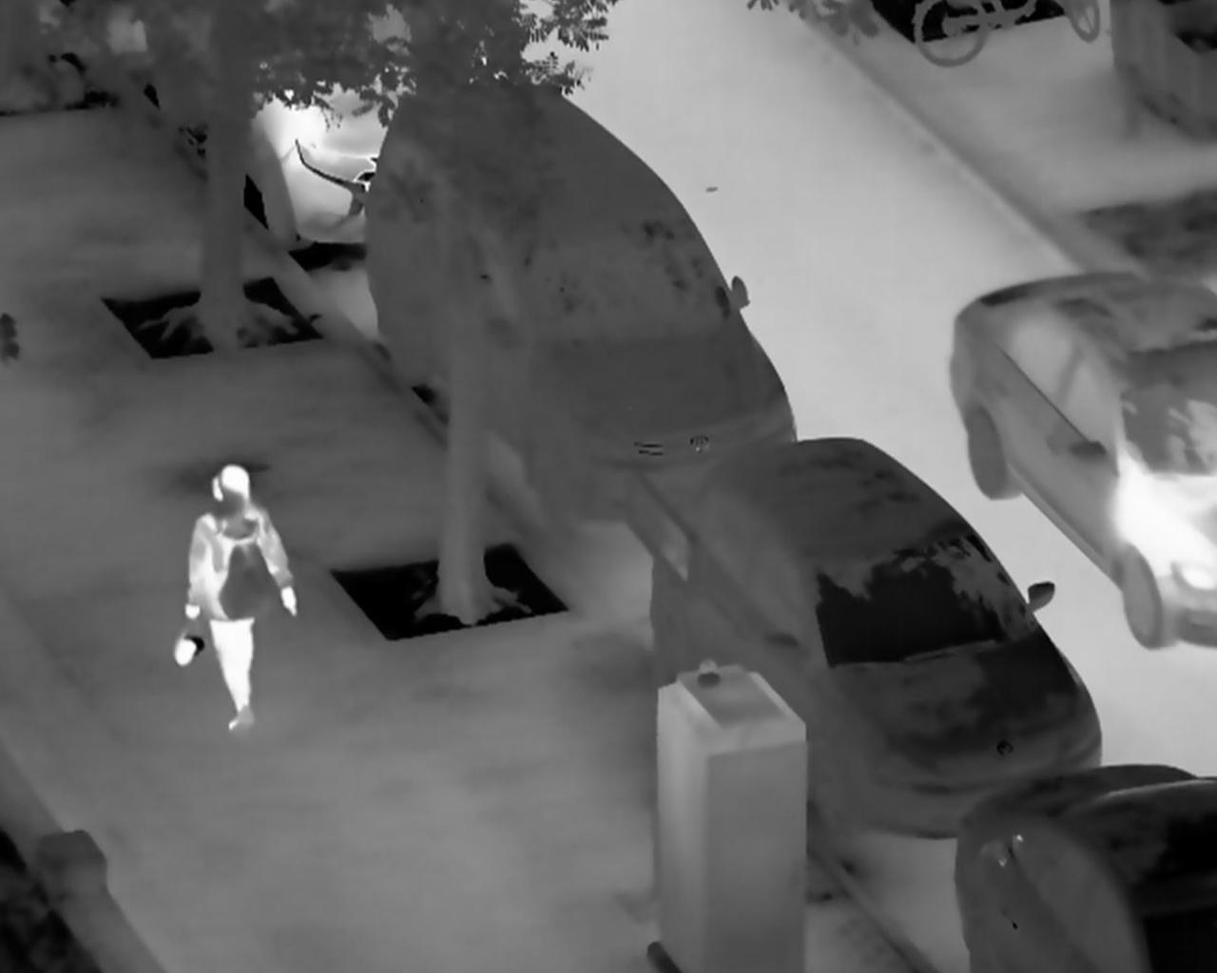person: (183, 463, 299, 732)
